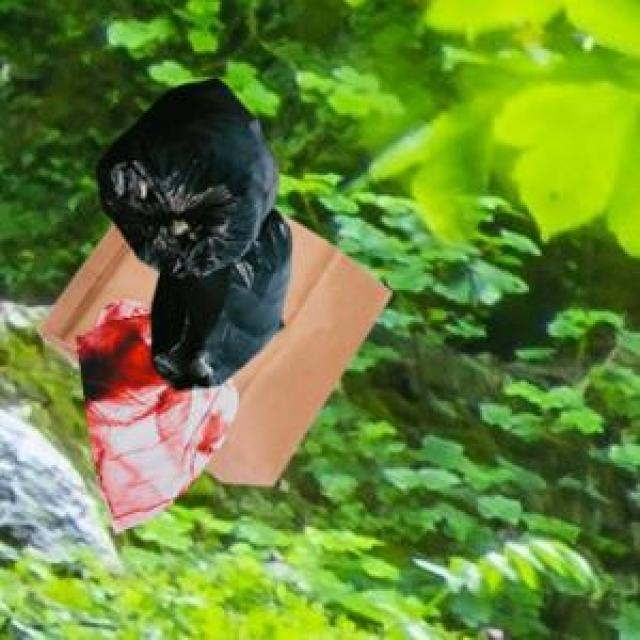miscellaneous trash: (94, 75, 288, 386)
paper: (34, 211, 386, 482)
